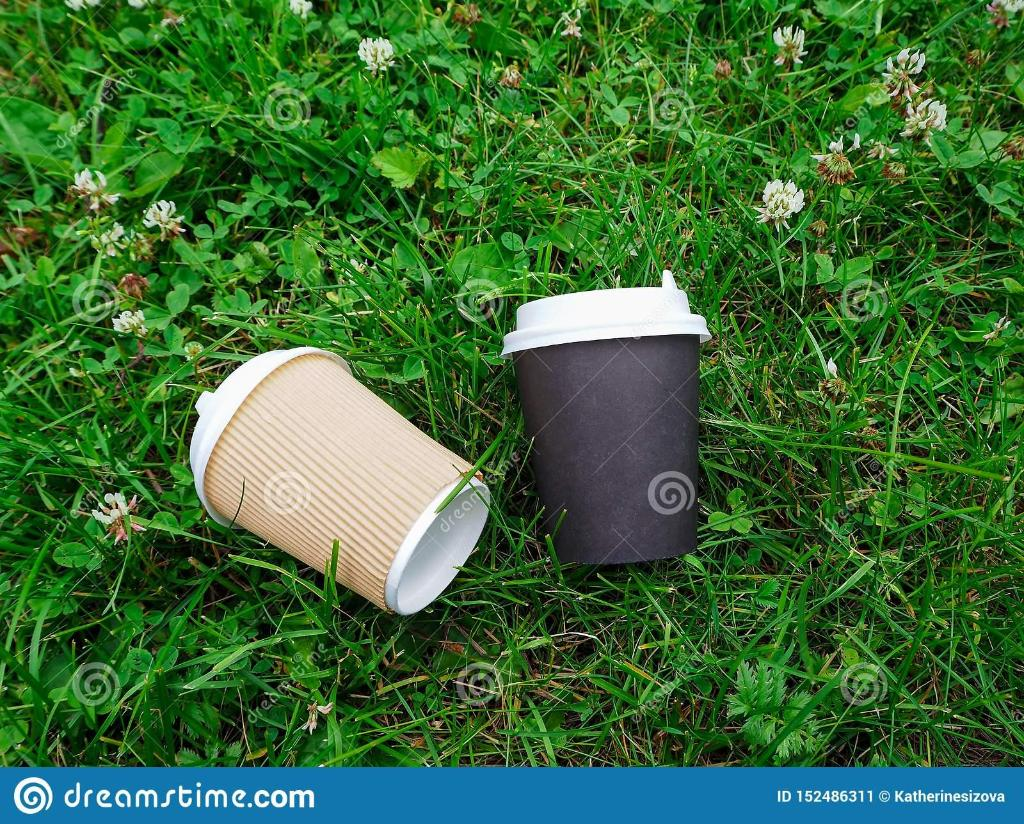garbage: (191, 344, 486, 638), (496, 282, 731, 578)
